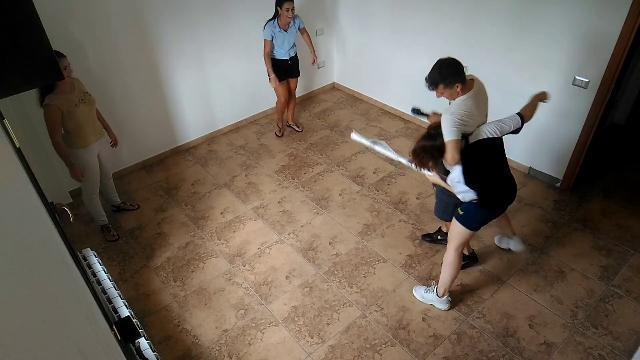non-violence: (36, 49, 142, 245), (260, 1, 320, 140)
violence: (348, 51, 548, 311)
weapon: (411, 105, 430, 118)
